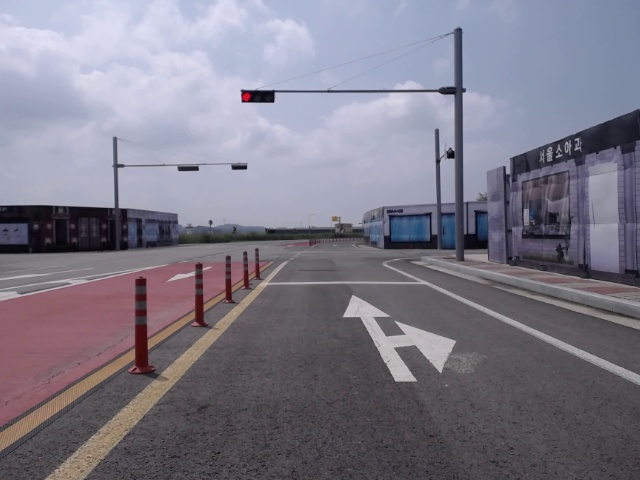red_3: (241, 91, 275, 103)
